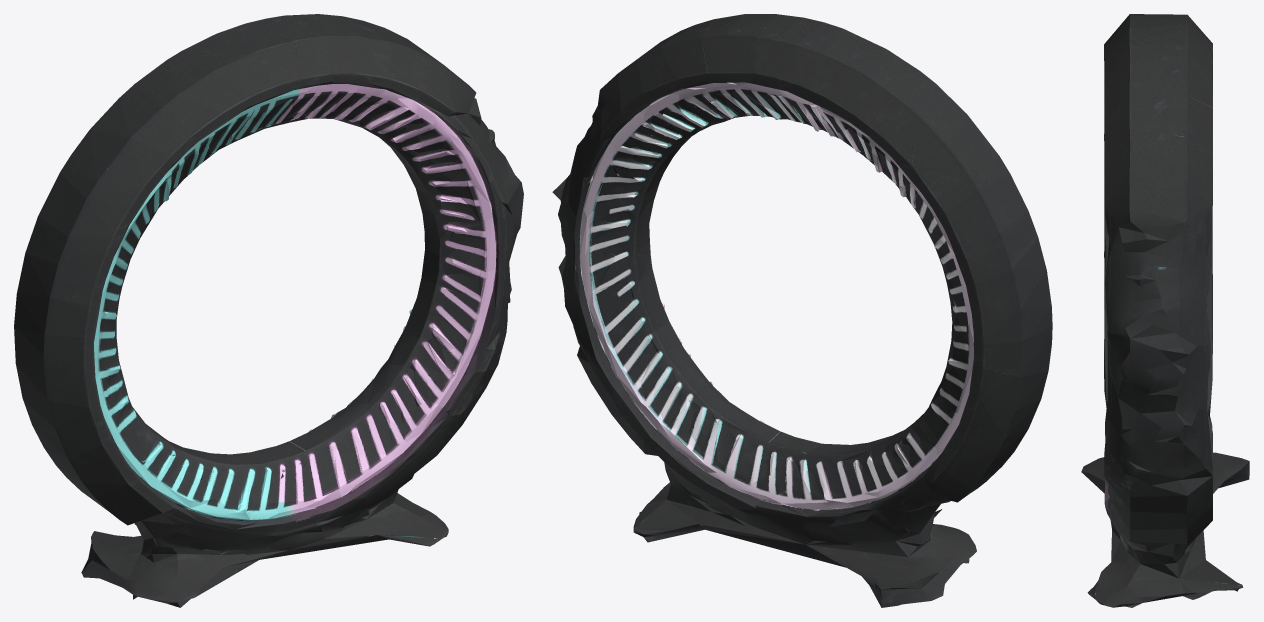
File: ring-gate.glb
3 renders of one model, left to right at view 1: azimuth 30°, elevation 25°; view 2: azimuth 150°, elevation 25°; view 3: azimuth 270°, elevation 25°, orthographic. The views are drawn at different scales.
Visible parts, largest first — view 1: output_unwrapped; view 2: output_unwrapped; view 3: output_unwrapped.
Part boxes in pixels (left/top/right/bottom): output_unwrapped: left=14, top=14, right=523, bottom=607; output_unwrapped: left=552, top=14, right=1052, bottom=607; output_unwrapped: left=1081, top=14, right=1249, bottom=607.
Size of the model in its own units: 1.83 by 1.9 by 0.5785.
Materials: 1 (1 with a texture image).
